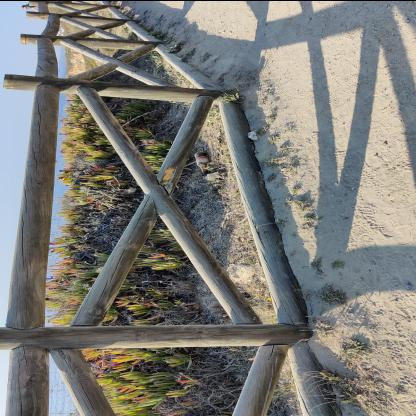cam: (194, 152, 210, 174)
plastik: (204, 172, 224, 180)
